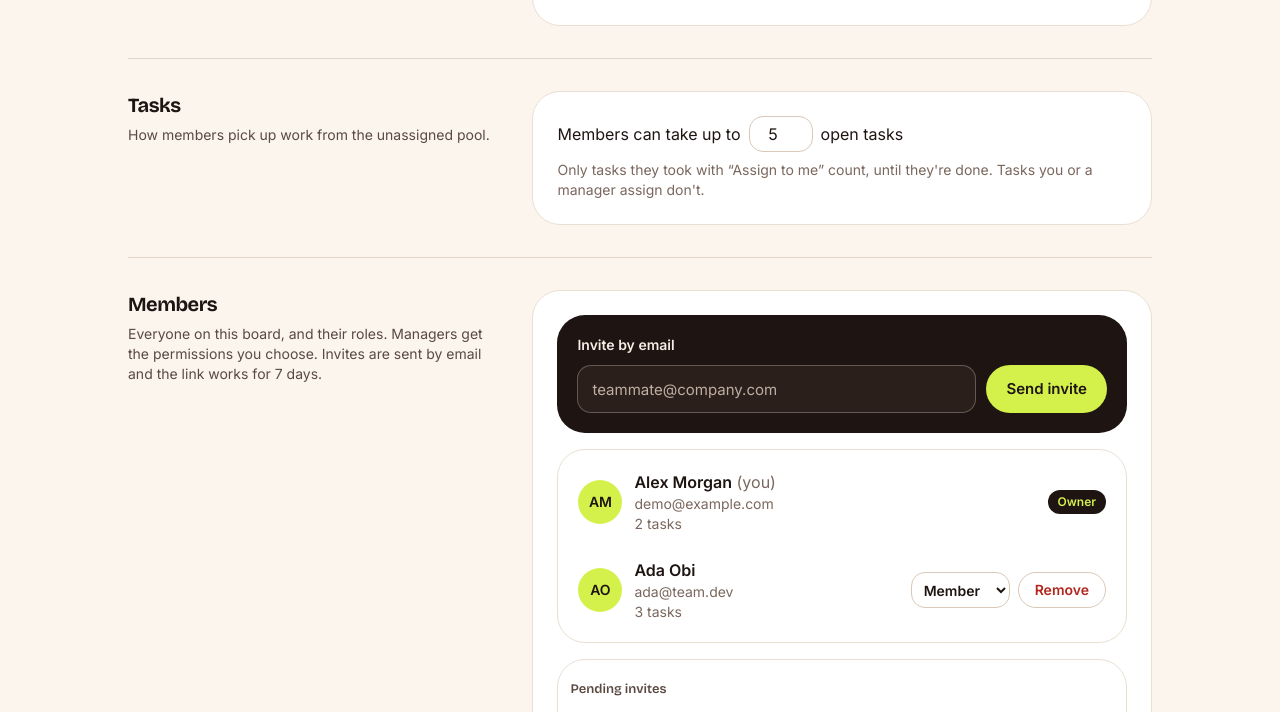
ProjectSettingsContent: Members › invites: shows '<name> is already a member.' and a bad address under the field
The image size is (1280, 712).
(page scrolled)
Click the button "Send invite": (1047, 389) [986,365,1107,413]
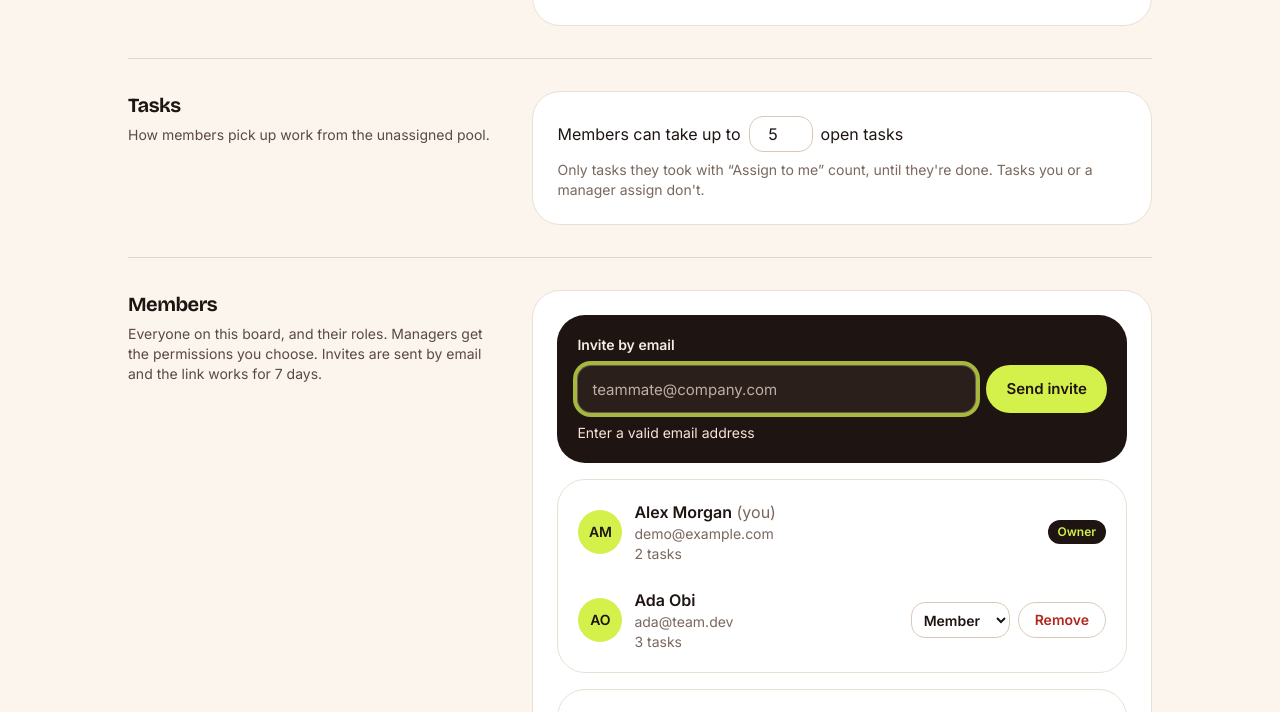
Now the text "Enter a valid email address" is shown, box [577,424,755,441]
In the field labelled "Invite by email": (777, 389) [577,365,976,413], type "ada@team.dev"
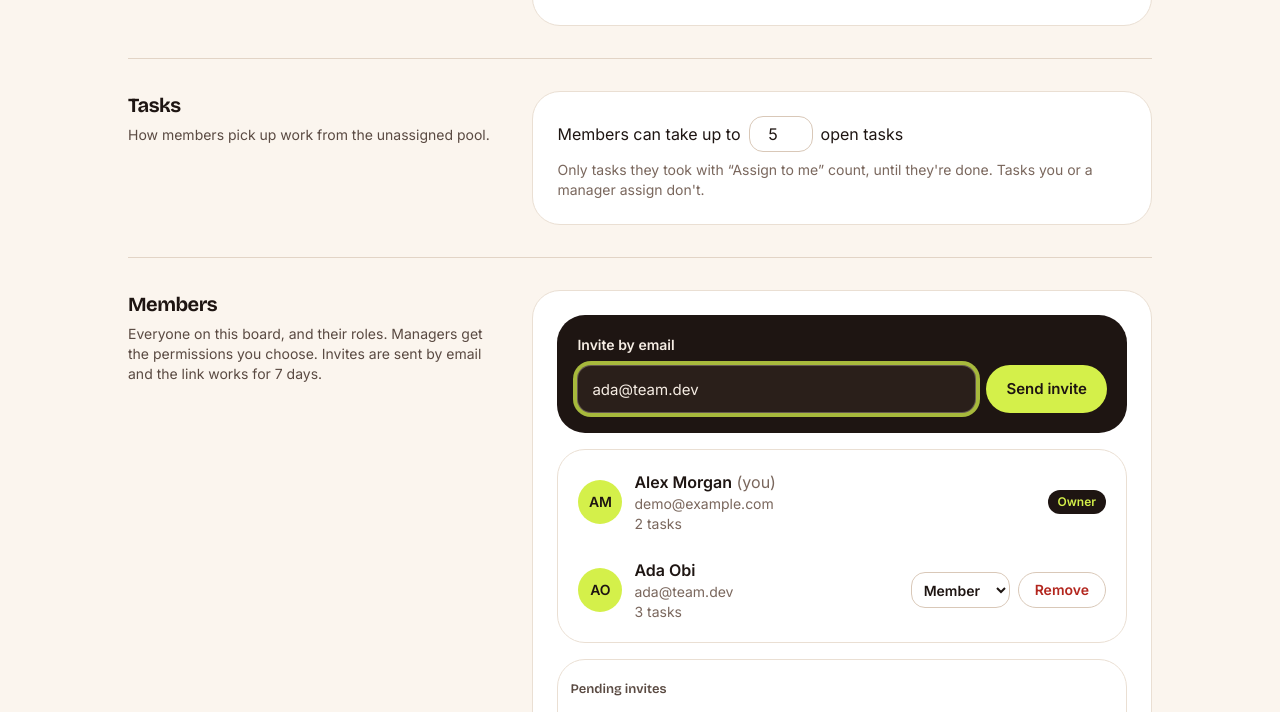
Click the button "Send invite": (1047, 389) [986,365,1107,413]
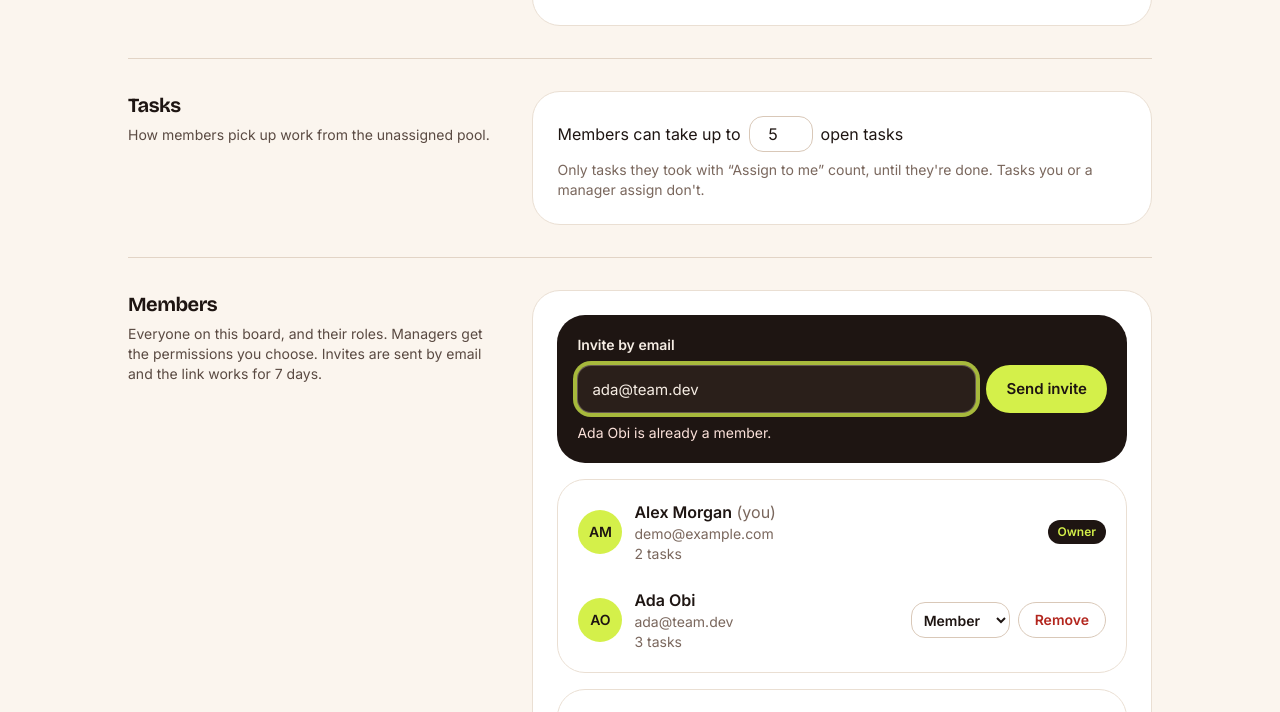
Now the text "Ada Obi is already a member." is shown, box [577,424,771,441]
